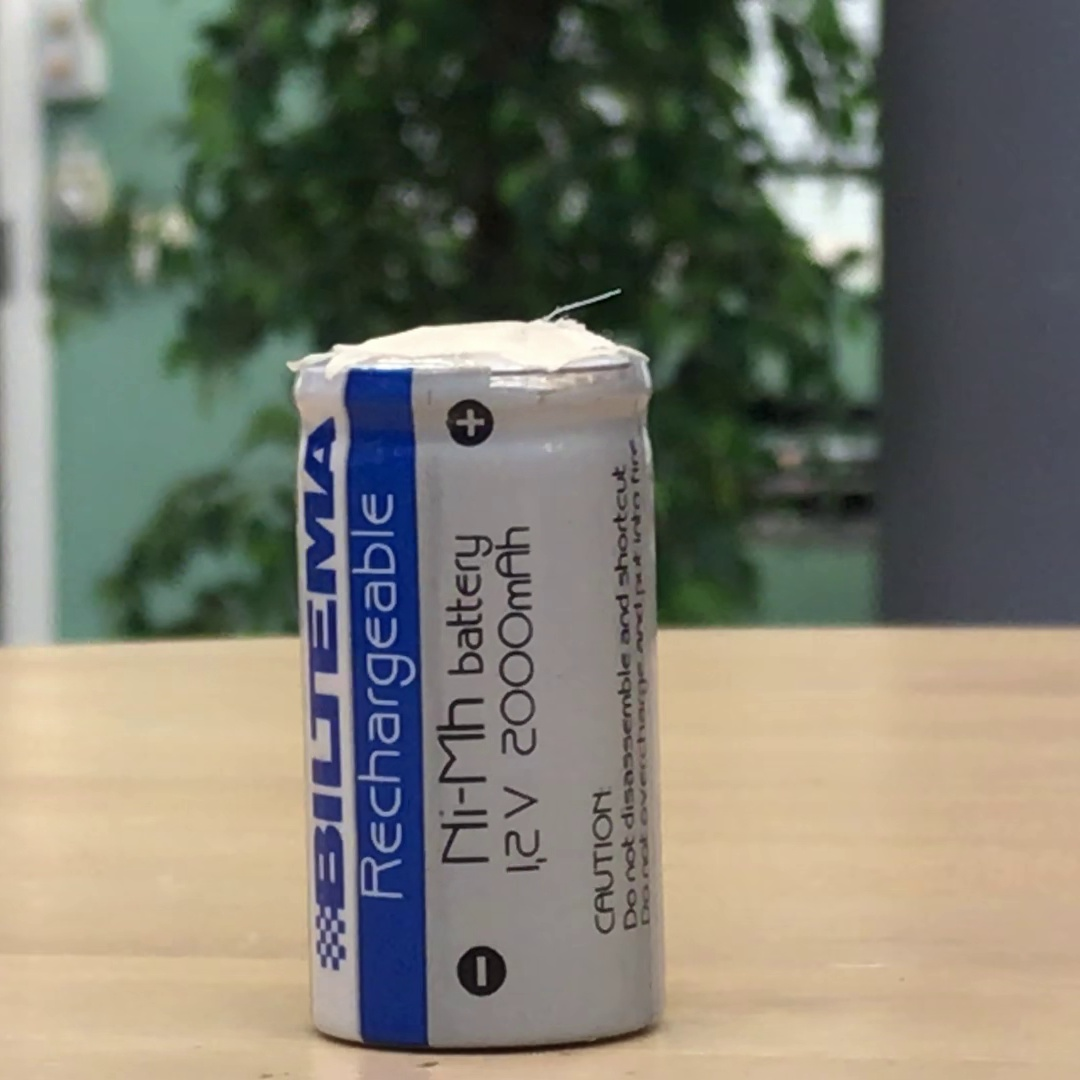keyword: (426, 697, 499, 874)
